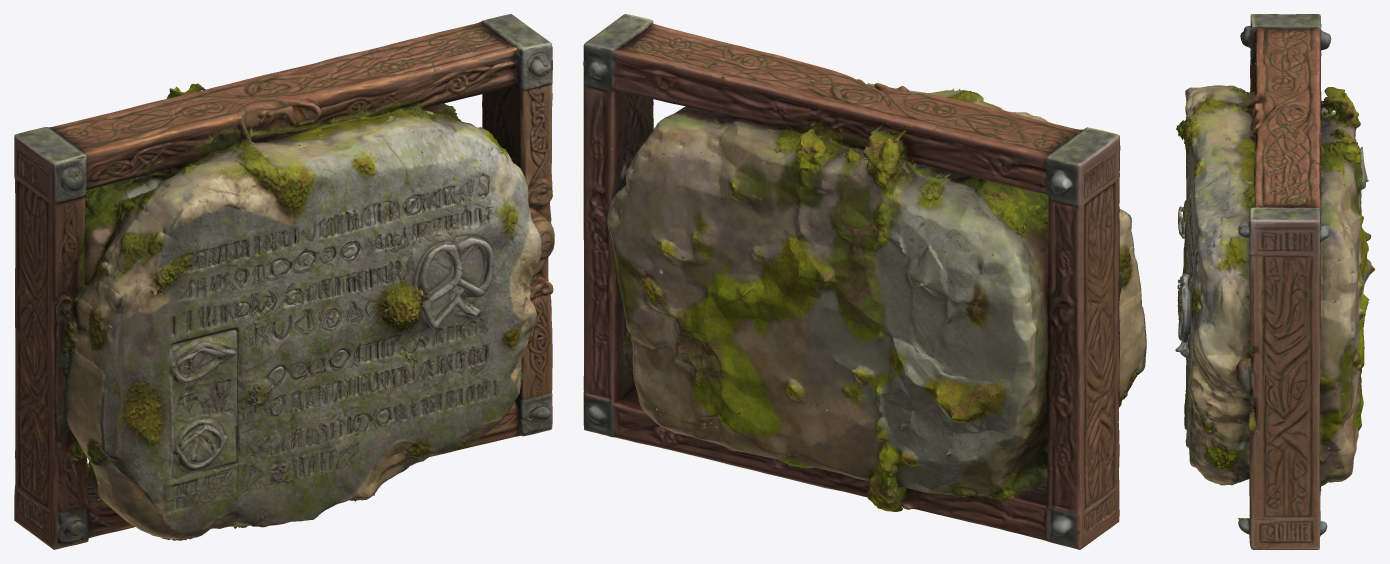
The model's file is _Create_a_3D_mesh_of__0721233537_texture.fbx.
3 renders of one model, left to right at view 1: azimuth 30°, elevation 25°; view 2: azimuth 150°, elevation 25°; view 3: azimuth 270°, elevation 25°, orthographic. The views are drawn at different scales.
Visible parts, largest first — view 1: Mesh_0; view 2: Mesh_0; view 3: Mesh_0.
Boxes of the visible parts, x1,y1,x2,y2 form: Mesh_0: [14, 14, 554, 549]; Mesh_0: [583, 14, 1146, 549]; Mesh_0: [1175, 14, 1375, 549].
Bounding box in the file's own units: 201 × 150 × 81.95.
1 material, 1 textured.
